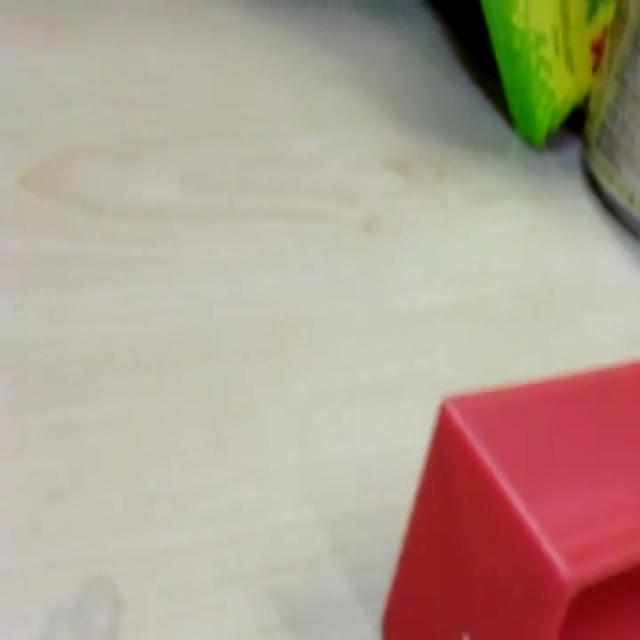red_block: (381, 353, 638, 638)
